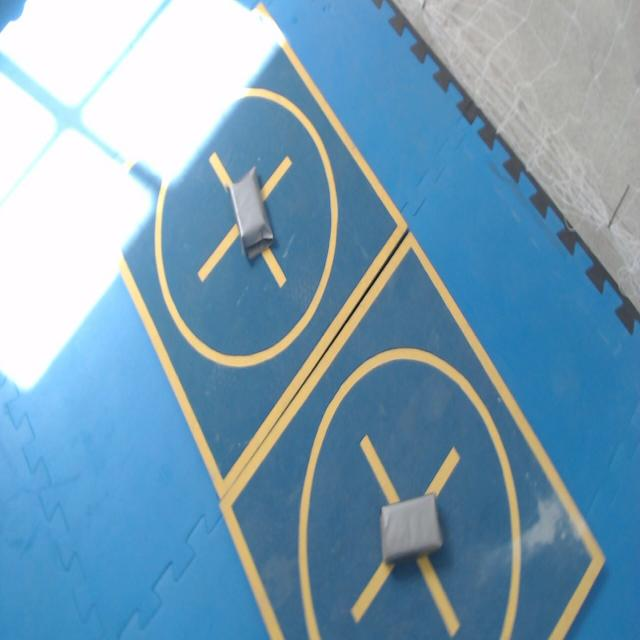esquerda: (229, 166, 272, 259)
horizontal: (380, 492, 442, 562)
